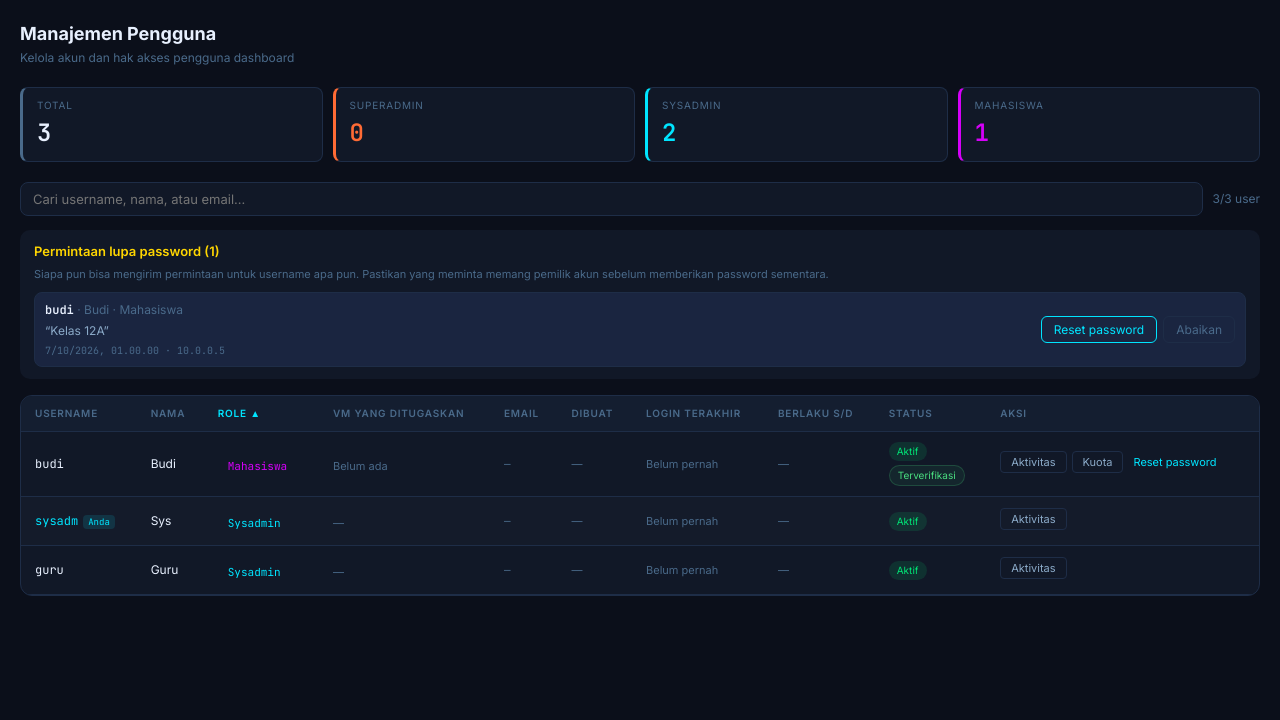
Test: Users: reset password dan permintaan lupa password › sysadmin hanya bisa mereset mahasiswa, dan password sementara ditampilkan sekali
Expected: the text "“Kelas 12A”" is shown, [45,323,109,338]
// Tombol pertama ada di panel permintaan, yang kedua di baris budi.
Click the button "Reset password" in the row of "Belum ada". click: (1175, 462)
box: [1124,452,1226,472]
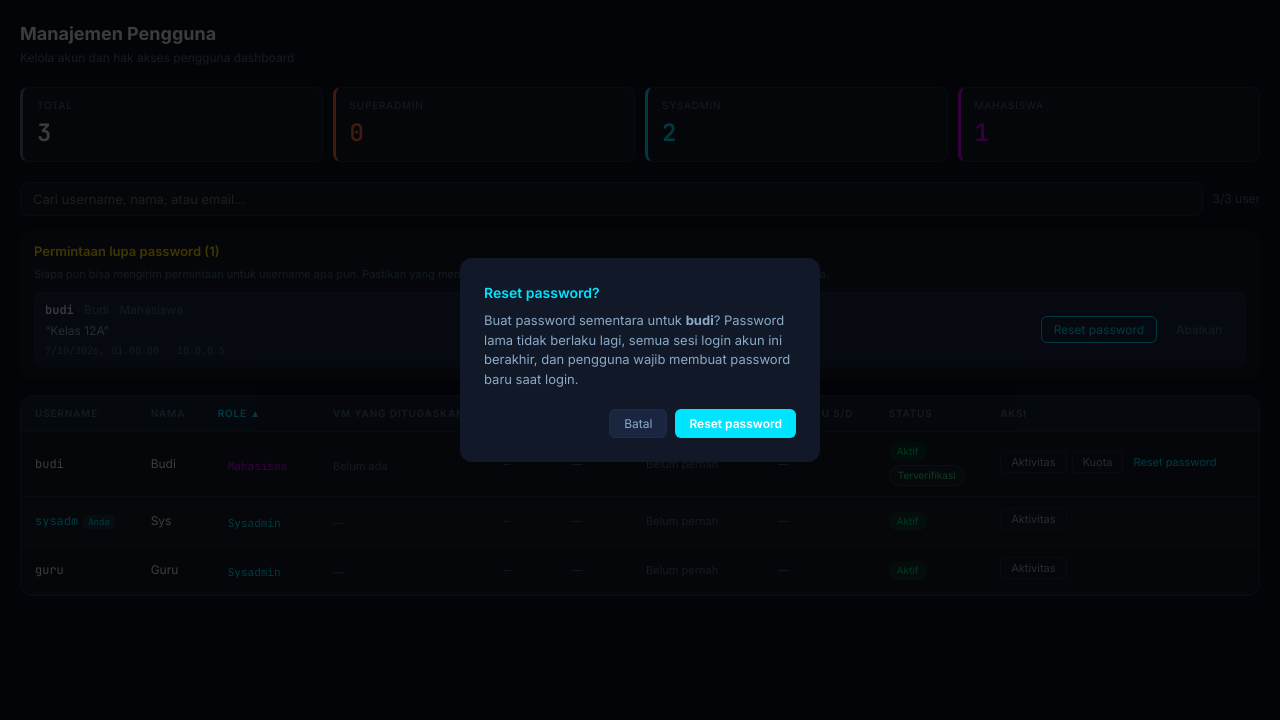
Click the button "Reset password". click: (736, 424)
box: [675,409,796,438]
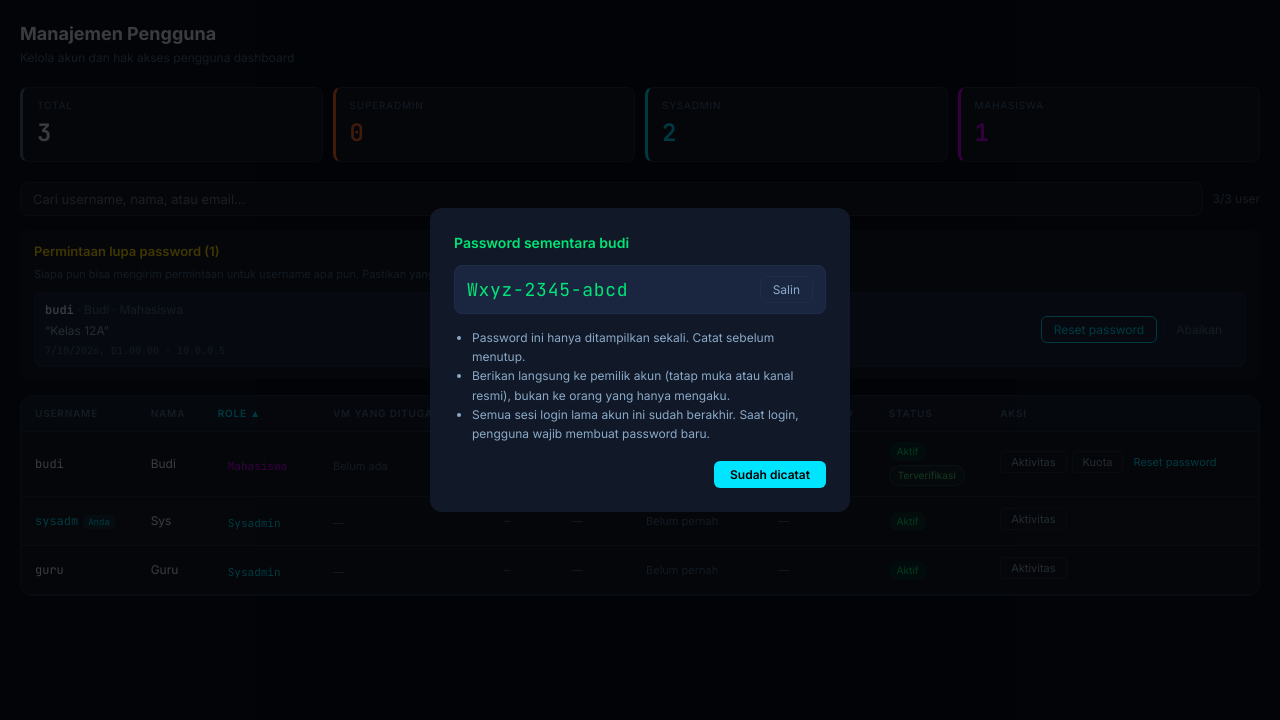
Result: the dialog "Password sementara" shows "Wxyz-2345-abcd" at [467,278,628,301]
Click the button "Sudah dicatat". click: (770, 475)
box: [714,461,826,488]
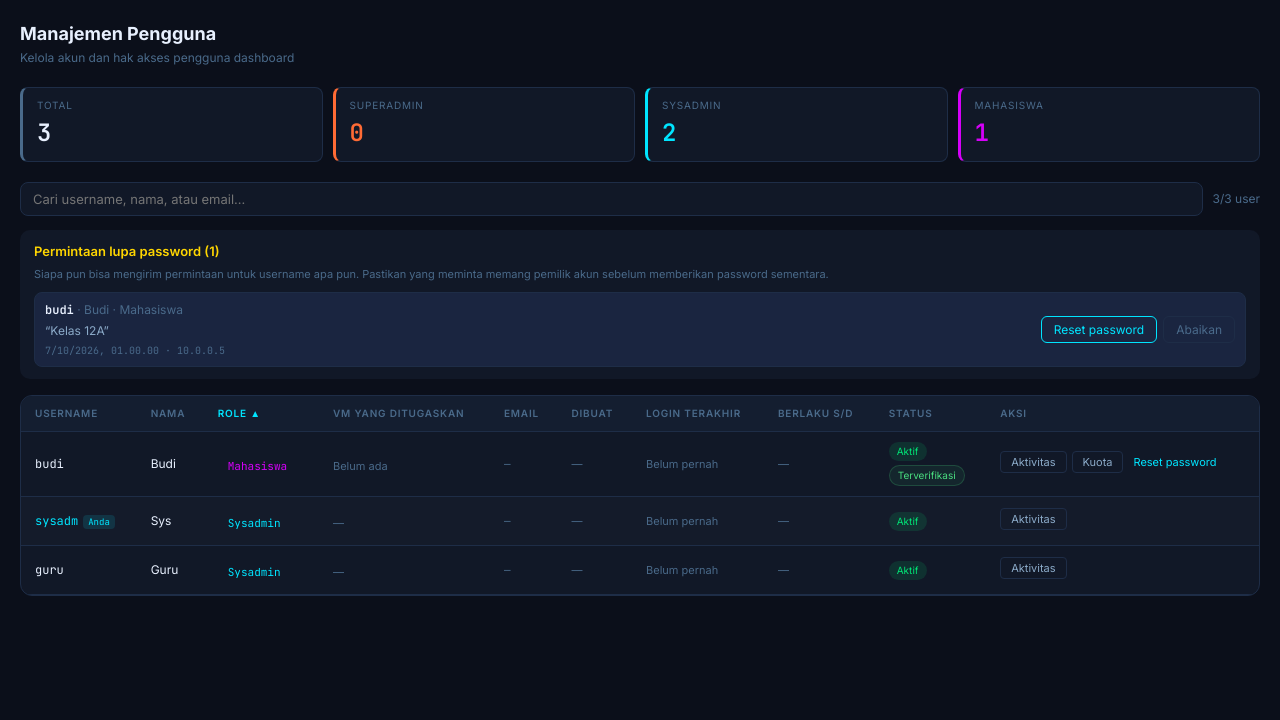
Result: the text "Wxyz-2345-abcd" is gone
